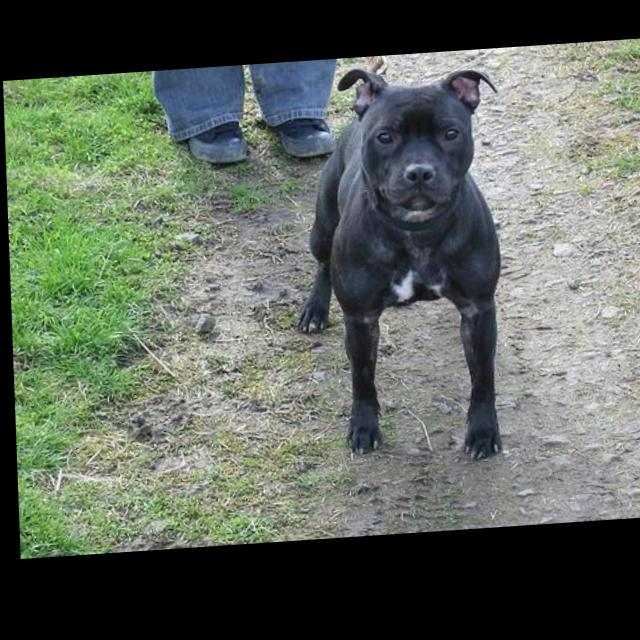staffford: (287, 64, 510, 477)
